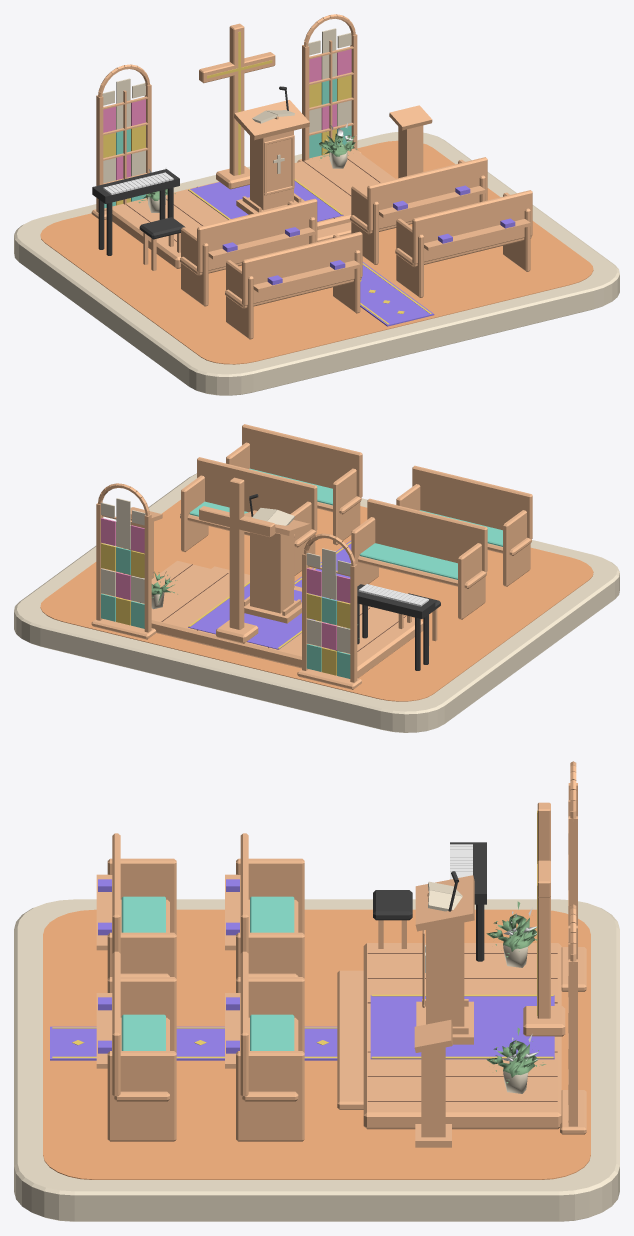
The picture shows the model from 3 angles, top to bottom: view 1: azimuth 30°, elevation 25°; view 2: azimuth 150°, elevation 25°; view 3: azimuth 270°, elevation 25°; orthographic projection. The views are drawn at different scales.
Parts seen in each view (by area): view 1: COM-02 Floor Surface, COM-01 Rounded Base Direct, Sanctuary platform, Back.002, Back.003, Back, Back.001, Body, Aisle runner, Cross upright.001, Stage carpet, Reading top (+20 smaller); view 2: COM-02 Floor Surface, COM-01 Rounded Base Direct, Sanctuary platform, Back.003, Back.002, Back, Back.001, Body, Cross upright.001, Stage carpet, Seat cushion, End panel.005 (+22 smaller); view 3: COM-02 Floor Surface, COM-01 Rounded Base Direct, Sanctuary platform, Stage carpet, End panel.006, End panel.002, Aisle runner, Body, Entry step, End panel.004, End panel, End panel.005 (+31 smaller).
Boxes of the visible parts, x1,y1,x2,y2 form: COM-02 Floor Surface: (40, 140, 593, 364); COM-01 Rounded Base Direct: (14, 132, 619, 395); Sanctuary platform: (112, 148, 395, 268); Back.002: (242, 231, 362, 305); Back.003: (412, 190, 532, 264); Back: (197, 198, 317, 272); Back.001: (367, 157, 487, 231); Body: (250, 130, 293, 210); Aisle runner: (360, 262, 434, 326); Cross upright.001: (229, 23, 244, 175); Stage carpet: (188, 181, 343, 221); Reading top: (234, 100, 309, 140); COM-02 Floor Surface: (40, 500, 593, 701); COM-01 Rounded Base Direct: (14, 473, 619, 732); Sanctuary platform: (127, 560, 423, 678); Back.003: (242, 424, 362, 497); Back.002: (412, 465, 532, 539); Back: (367, 498, 487, 572); Back.001: (197, 457, 317, 530); Body: (250, 532, 293, 613); Cross upright.001: (229, 477, 244, 629); Stage carpet: (188, 583, 340, 649); Seat cushion: (359, 543, 457, 579); End panel.005: (503, 510, 530, 586); COM-02 Floor Surface: (43, 909, 590, 1179); COM-01 Rounded Base Direct: (14, 899, 619, 1221); Sanctuary platform: (363, 943, 561, 1129); Stage carpet: (370, 995, 554, 1059); End panel.006: (107, 1051, 176, 1141); End panel.002: (236, 1051, 304, 1141); Aisle runner: (50, 1026, 337, 1060); Body: (426, 922, 464, 1026); Entry step: (337, 970, 363, 1109); End panel.004: (107, 932, 176, 978); End panel: (236, 932, 304, 978); End panel.005: (107, 858, 176, 934).
Size of the model in its own units: 6 by 2.56 by 5.2.
Materials: 1 (1 with a texture image).
